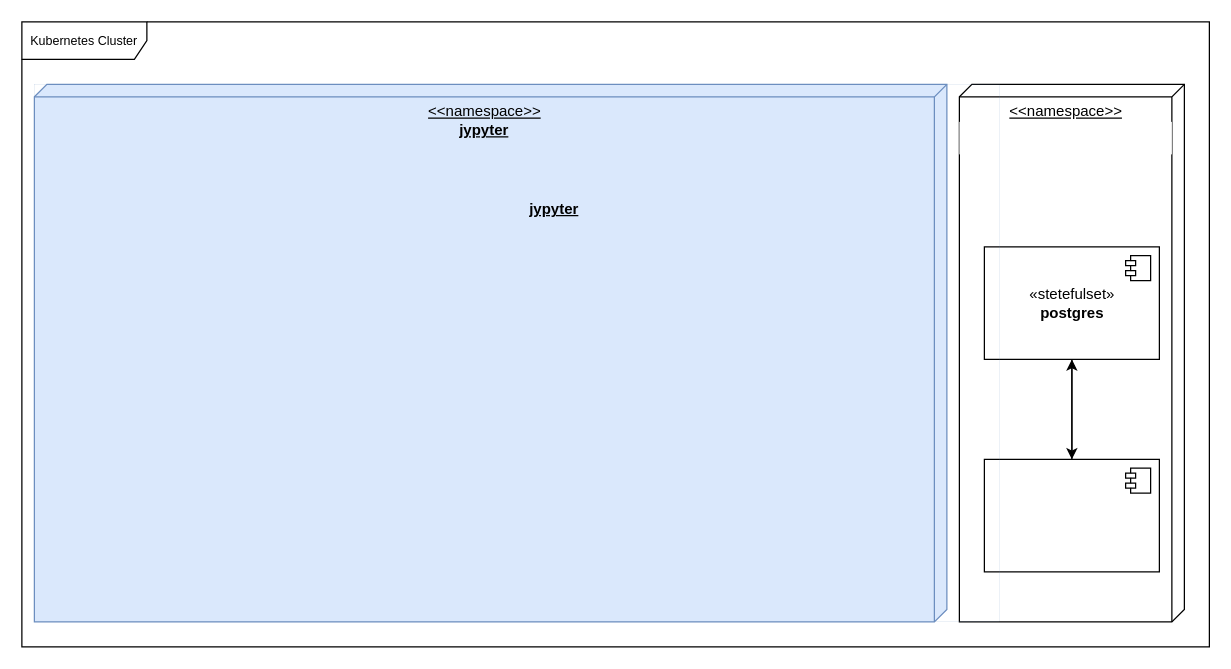
The diagram is 1231 pixels wide and 669 high, and some of its shapes have lost their labels. Each missing label, with the centre of its shape:
default: the point at 1065,137
«CSI» NFS "client": the point at 1071,515
